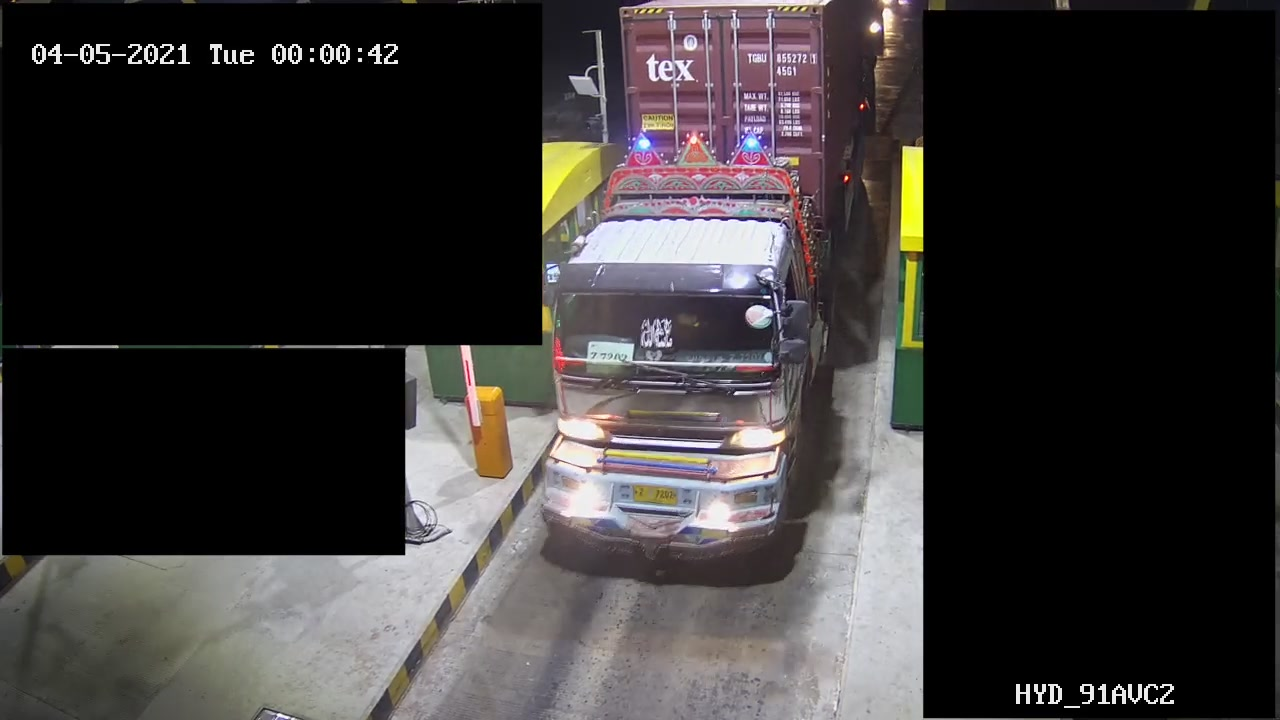F6: (538, 1, 871, 591)
